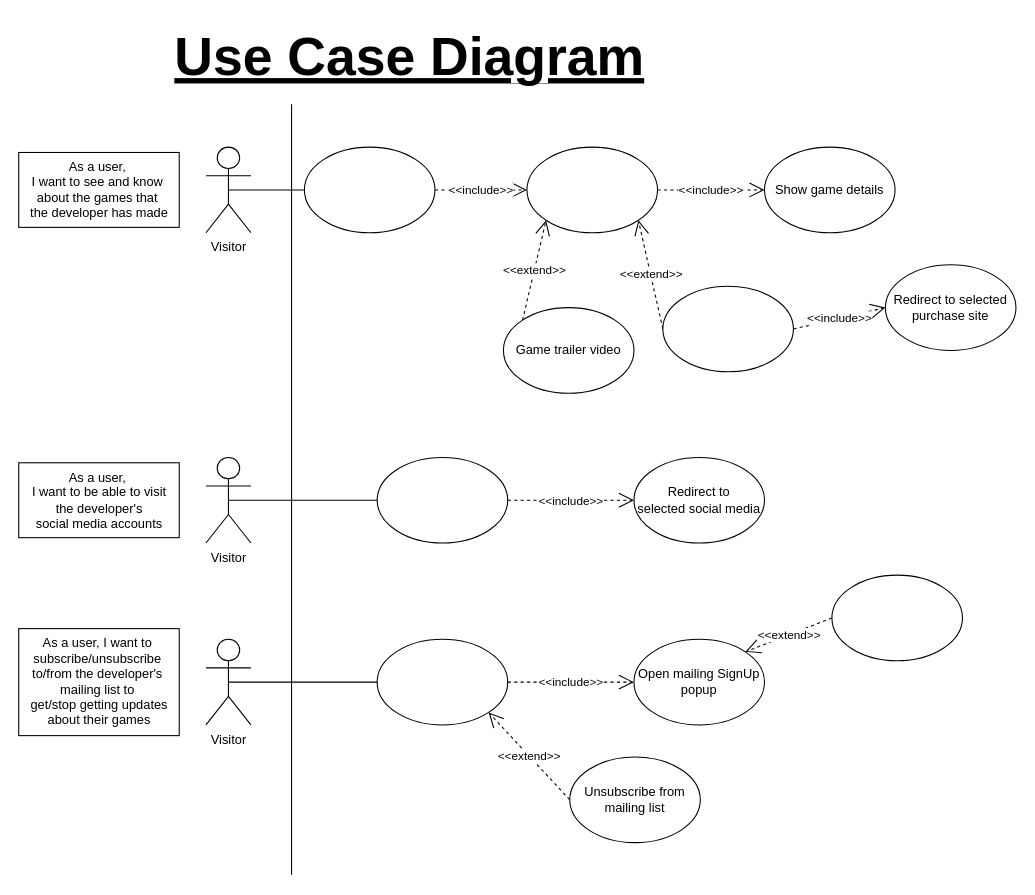
This 1035x895 diagram has some shape labels left out. Here are the shapes that lost their labels. From the top down, the centre of each, then its label:
(369,189): Select and click Game
(592,189): Show game popup
(727,328): Link to purchase game
(442,499): Click Social media Icon
(896,617): Add visitor email to database if email entered is correct
(442,681): Click mailing list button
